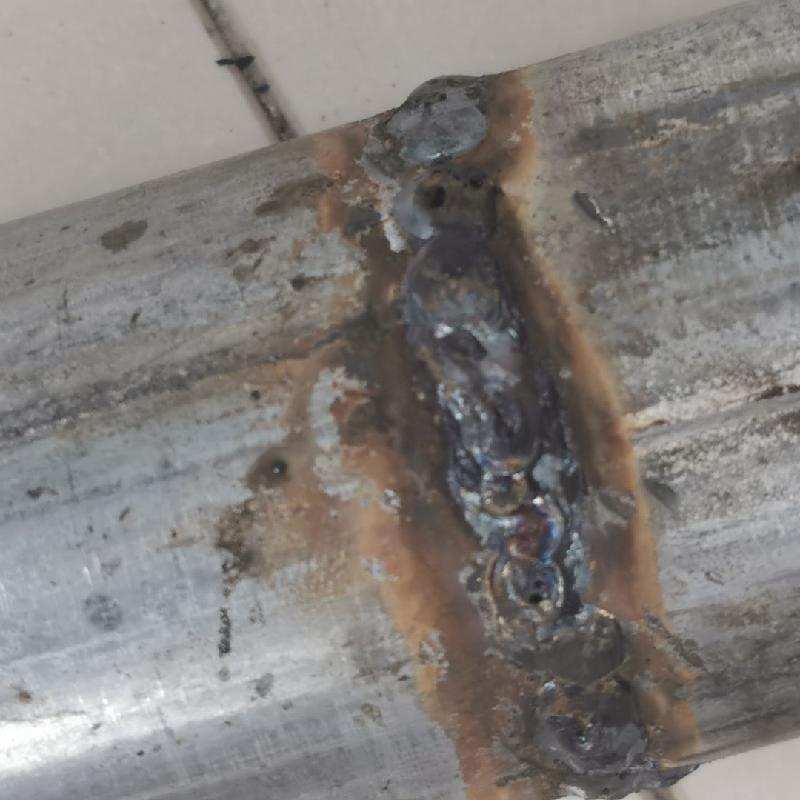Surface_pores: (407, 156, 498, 220), (508, 566, 564, 612)
crater: (424, 380, 588, 629)
wrong_size: (368, 50, 525, 365)
